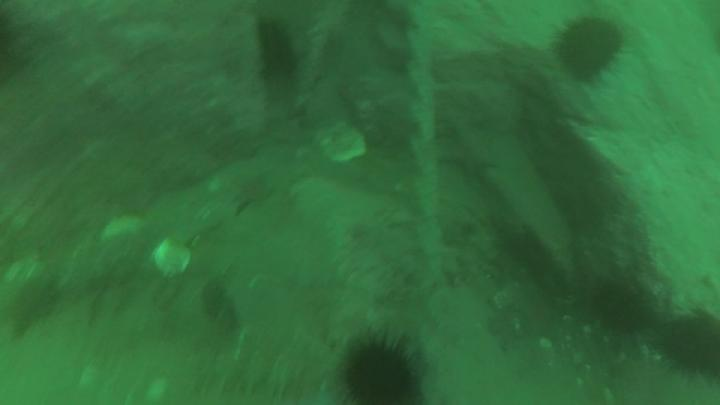echinus: (346, 344, 415, 405), (560, 19, 624, 78), (664, 315, 720, 378), (592, 280, 646, 339), (261, 26, 295, 75)
